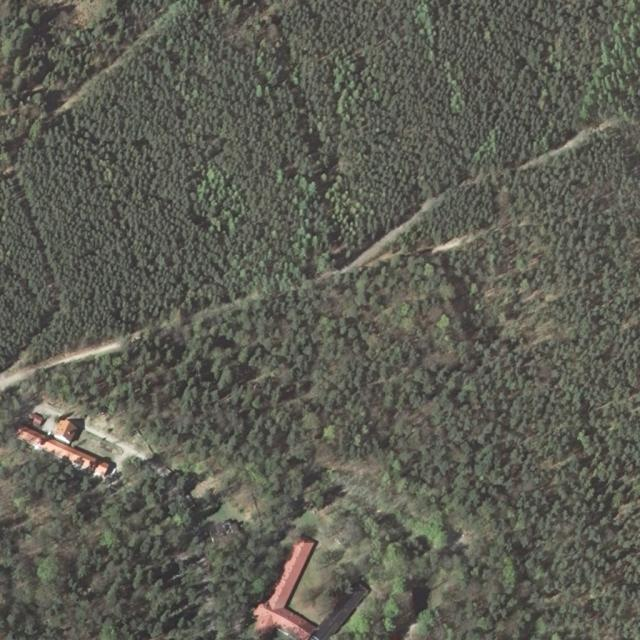agricultural_land: (74, 426, 137, 470)
unmetalled_road: (254, 539, 316, 640), (12, 423, 117, 481)
